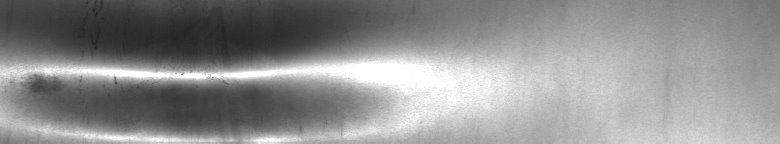ke: (4, 4, 422, 136)
